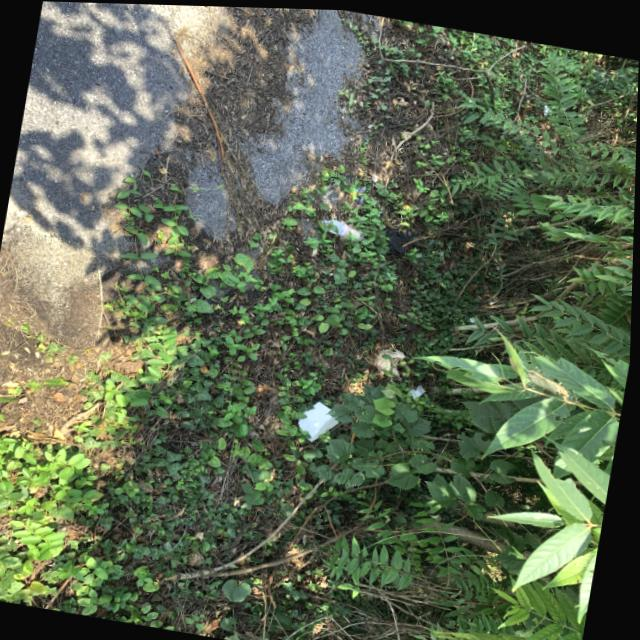Paper: (372, 340, 410, 382), (406, 378, 429, 402)
Plastic: (318, 213, 369, 242)
Trash -everything else-: (292, 394, 347, 447), (381, 220, 420, 255)
